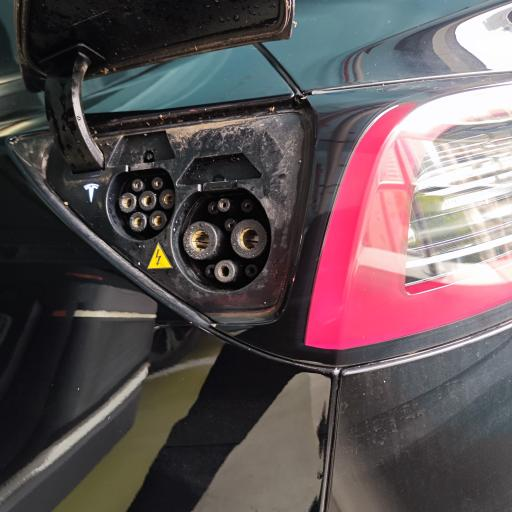AC_charging_hole: (106, 166, 177, 242)
DC_charging_port: (169, 187, 277, 294)
DC_hole: (182, 220, 220, 260), (231, 218, 269, 256)
PE: (214, 260, 236, 282)
